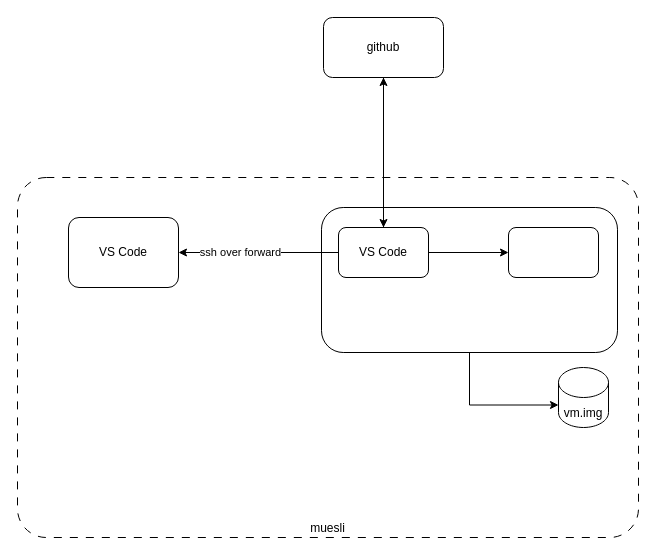
The diagram is 656 pixels wide and 555 high, and some of its shapes have lost their labels. Each missing label, with the box of its shape:
language binary: (508, 226, 598, 278)
vm: (320, 206, 618, 352)
